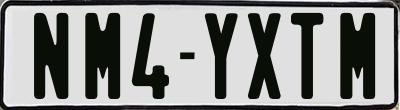4: (130, 11, 173, 97)
M: (340, 10, 377, 101), (83, 10, 119, 99)
N: (32, 12, 68, 98)
T: (291, 13, 323, 103)
X: (248, 13, 281, 104)
Y: (205, 12, 238, 101)
